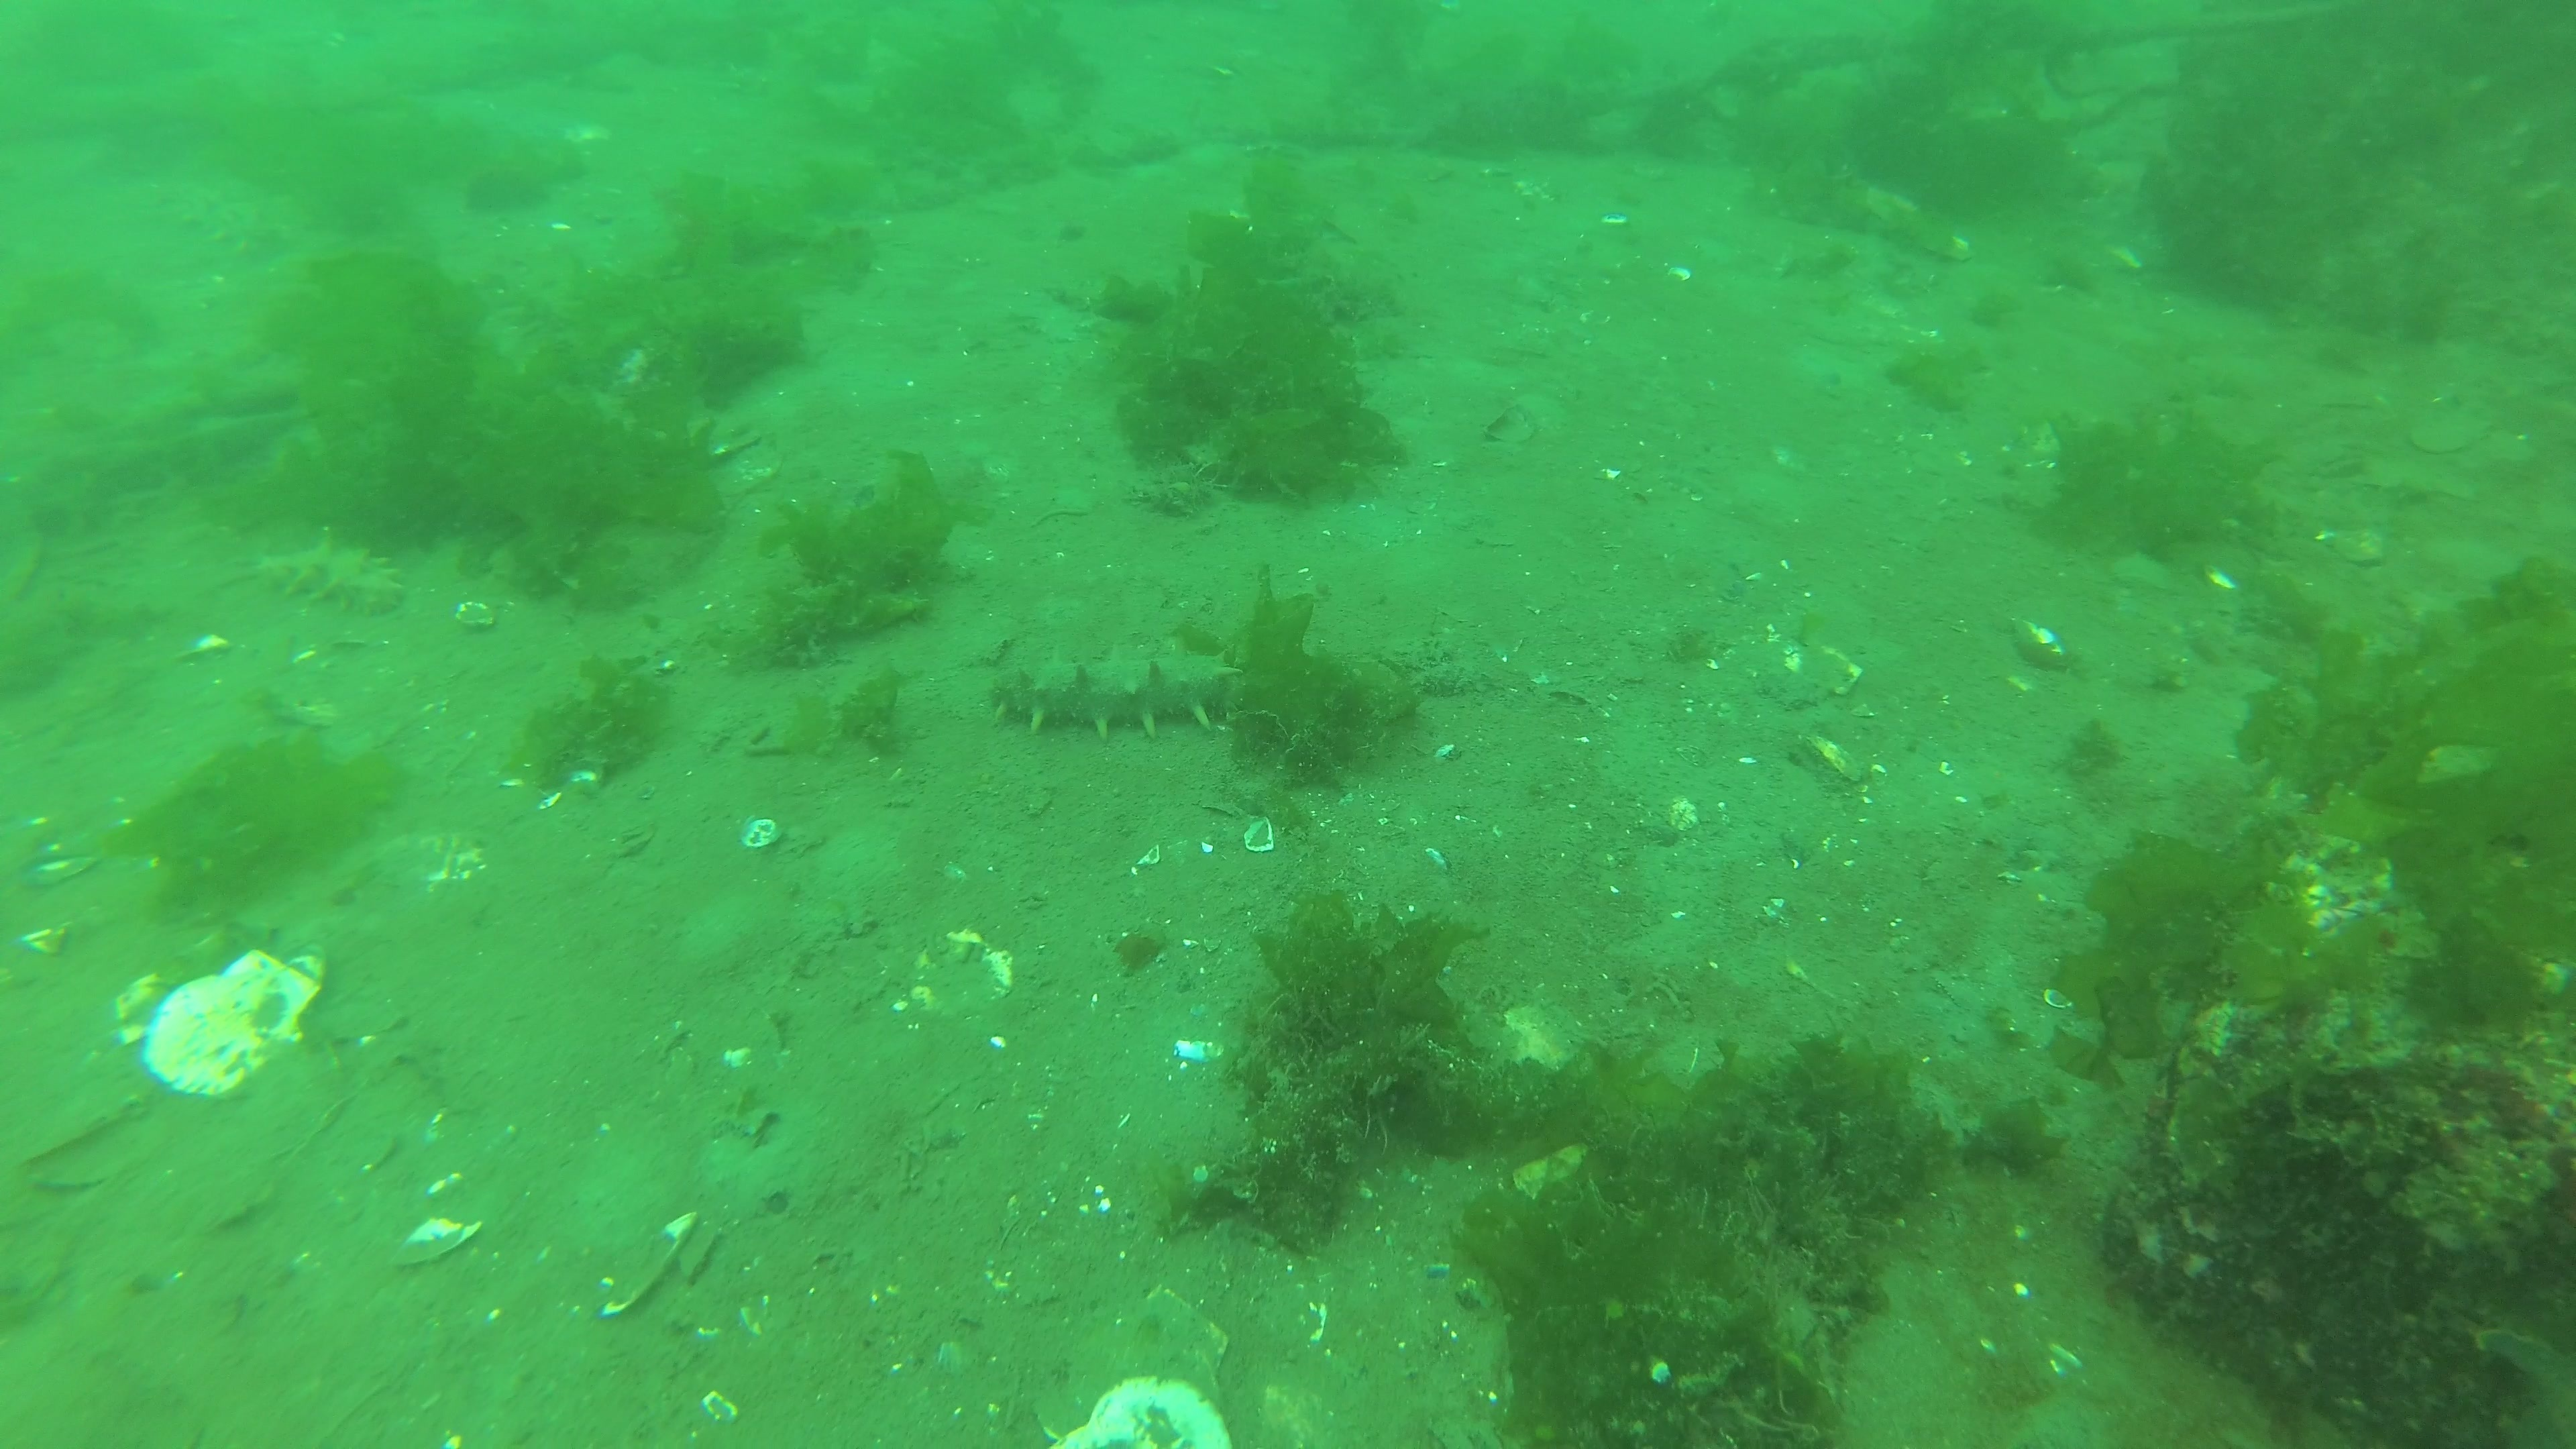holothurian: (993, 642, 1246, 741), (258, 524, 414, 617), (184, 189, 294, 264)
scallop: (142, 947, 318, 1102), (1060, 1369, 1242, 1445)
